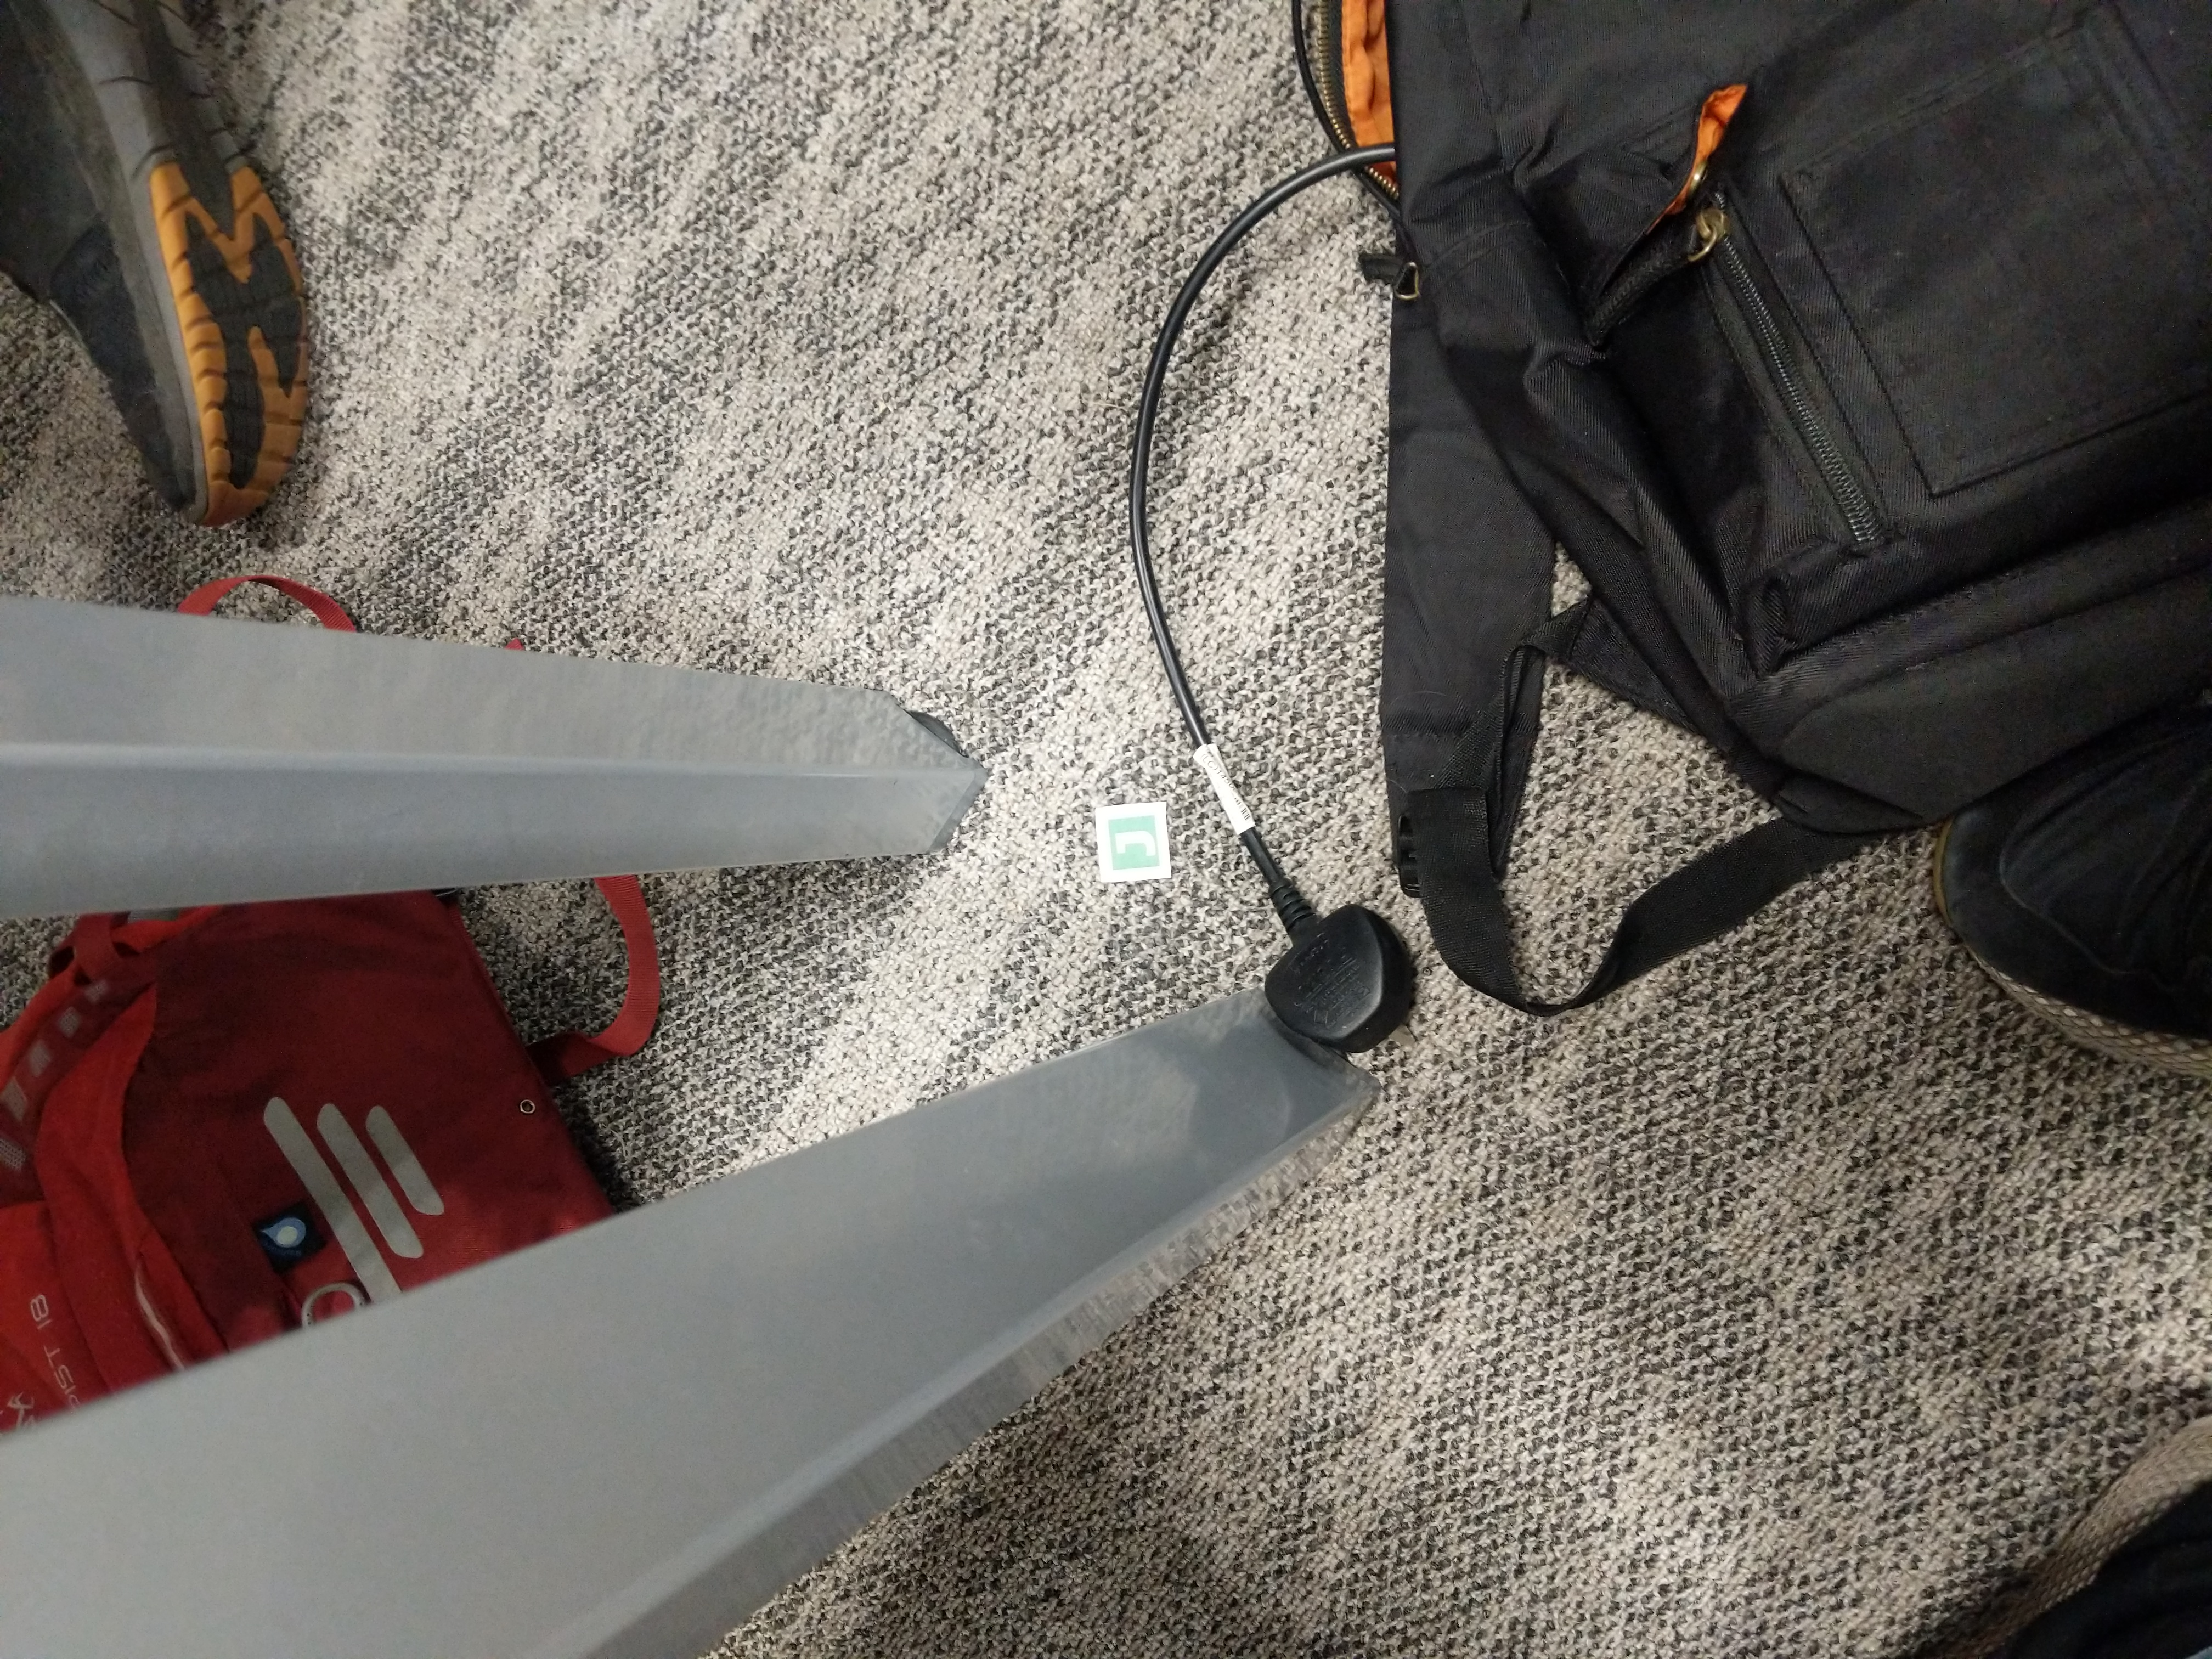green marker: (1087, 800, 1177, 892)
